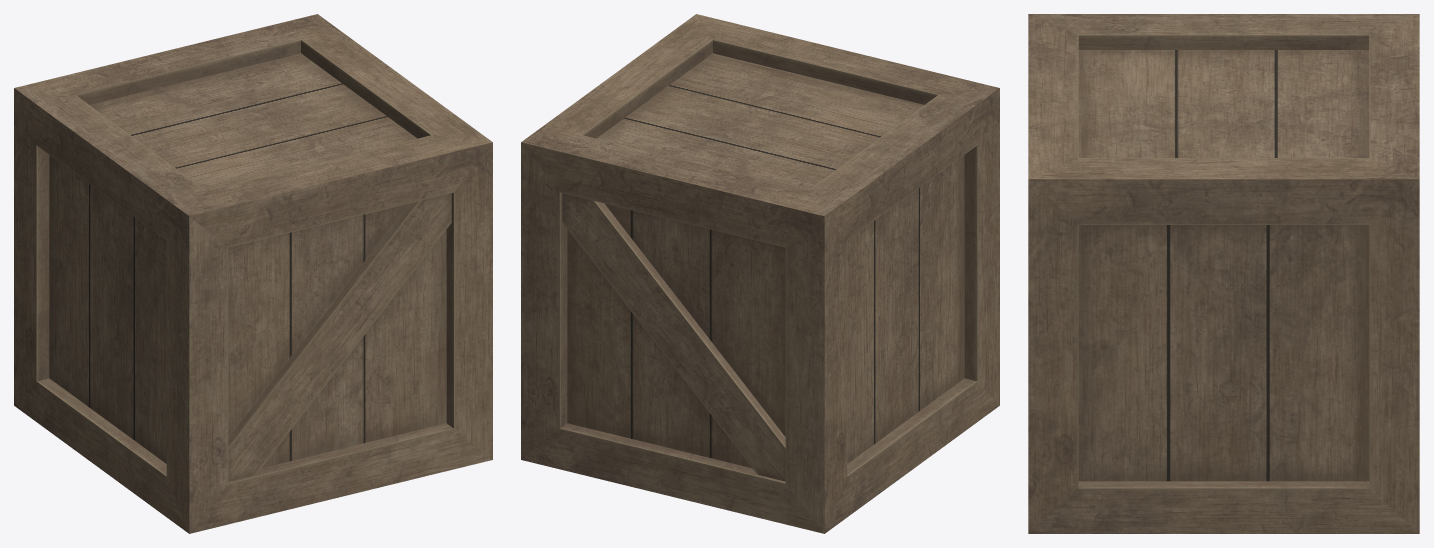
The model's file is crate2.fbx.
The picture shows the model from 3 angles, left to right: view 1: azimuth 30°, elevation 25°; view 2: azimuth 150°, elevation 25°; view 3: azimuth 270°, elevation 25°; orthographic projection. The views are drawn at different scales.
Parts seen in each view (by area): view 1: crate2; view 2: crate2; view 3: crate2.
Boxes of the visible parts, x1,y1,x2,y2 form: crate2: [14, 14, 492, 533]; crate2: [521, 14, 999, 533]; crate2: [1028, 14, 1419, 533].
Bounding box in the file's own units: 92.69 × 92.69 × 92.69.
